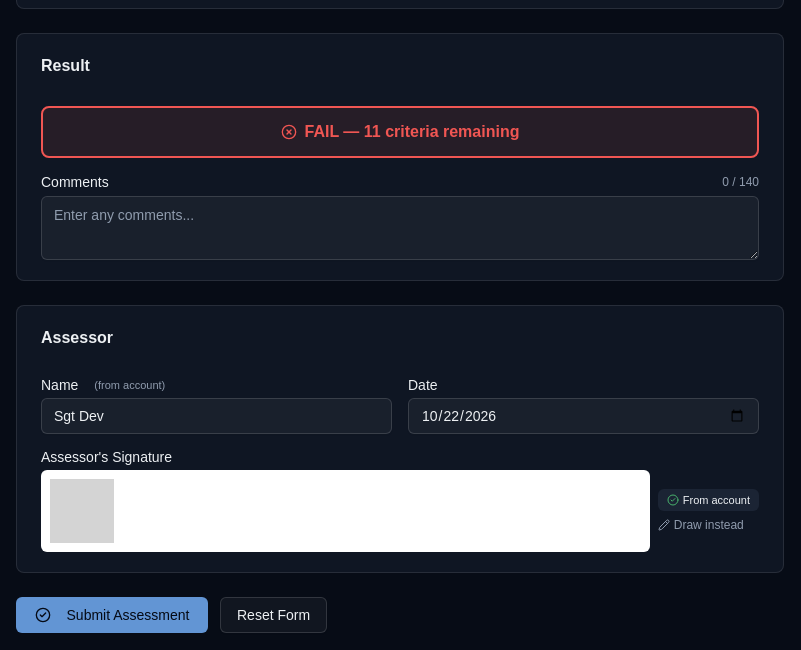
Test: radio assessment: submitting › with signal, records it and shows the assessment ID
(page scrolled)
Click the button "Submit Assessment" at [112, 615], box left=16, top=597, right=208, bottom=633
(page scrolled)
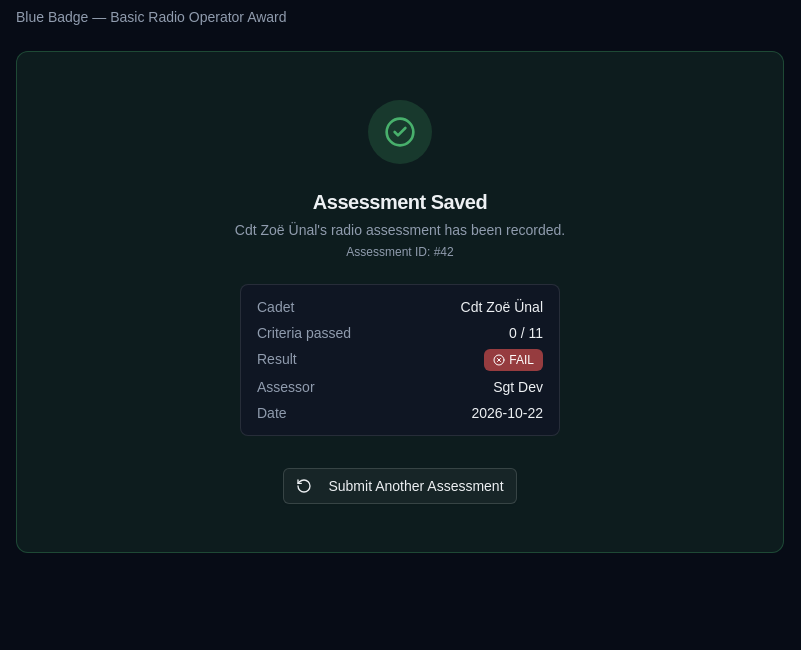
Expected: the heading "Assessment Saved" is shown, left=313, top=191, right=487, bottom=213
Expected: the text "Assessment ID: #42" is shown, left=346, top=245, right=454, bottom=259
